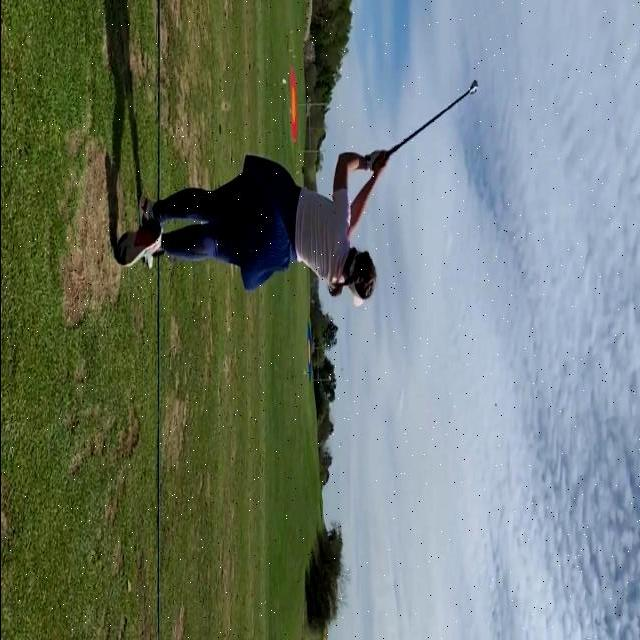ClubHandle: (386, 80, 477, 157)
ClubHead: (469, 80, 478, 95)
